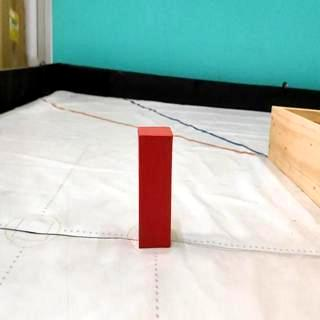redbox: (137, 125, 174, 248)
